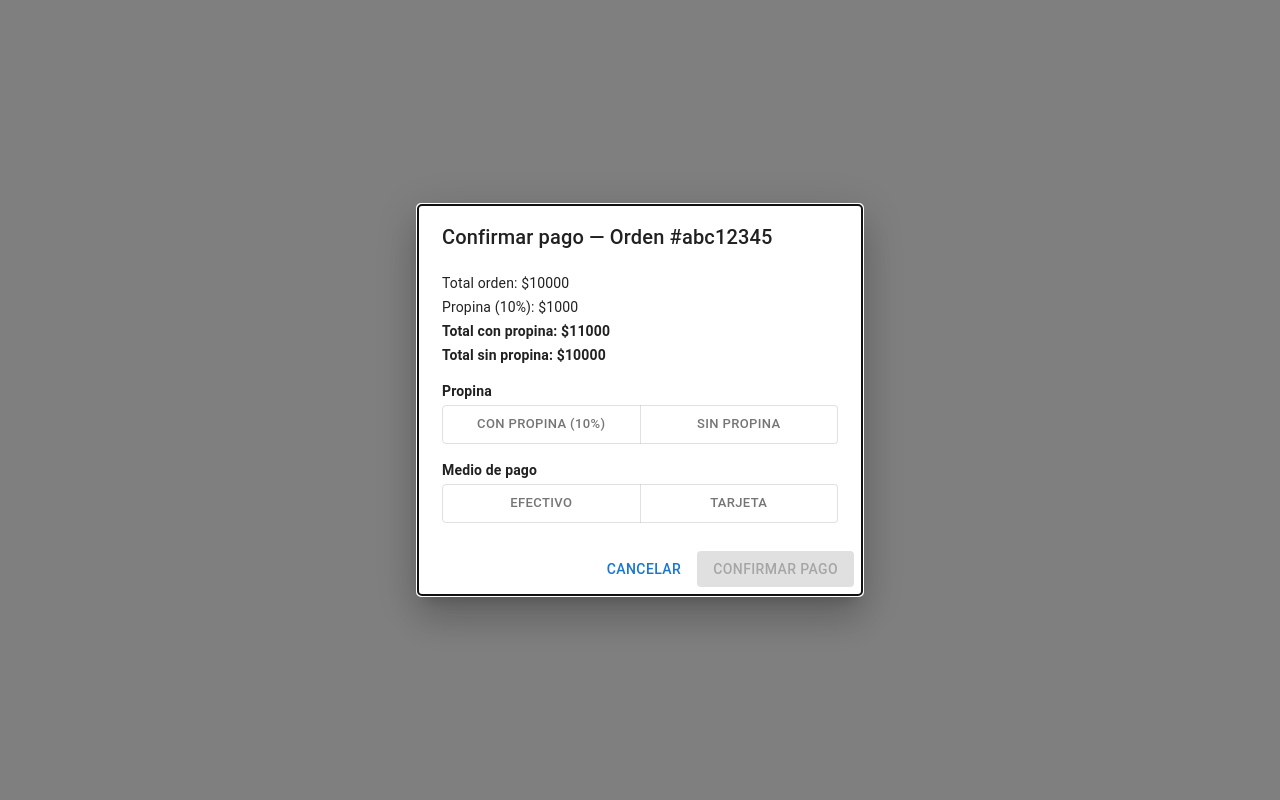
Test: MarkOrderPaidModal › deshabilita confirmar hasta elegir propina y medio de pago
This screenshot has width=1280, height=800.
Check: the button "Confirmar pago" is disabled, box [697,550,854,587]
Click the button "Con propina (10%)".
click(541, 424)  # box [442,405,640,444]
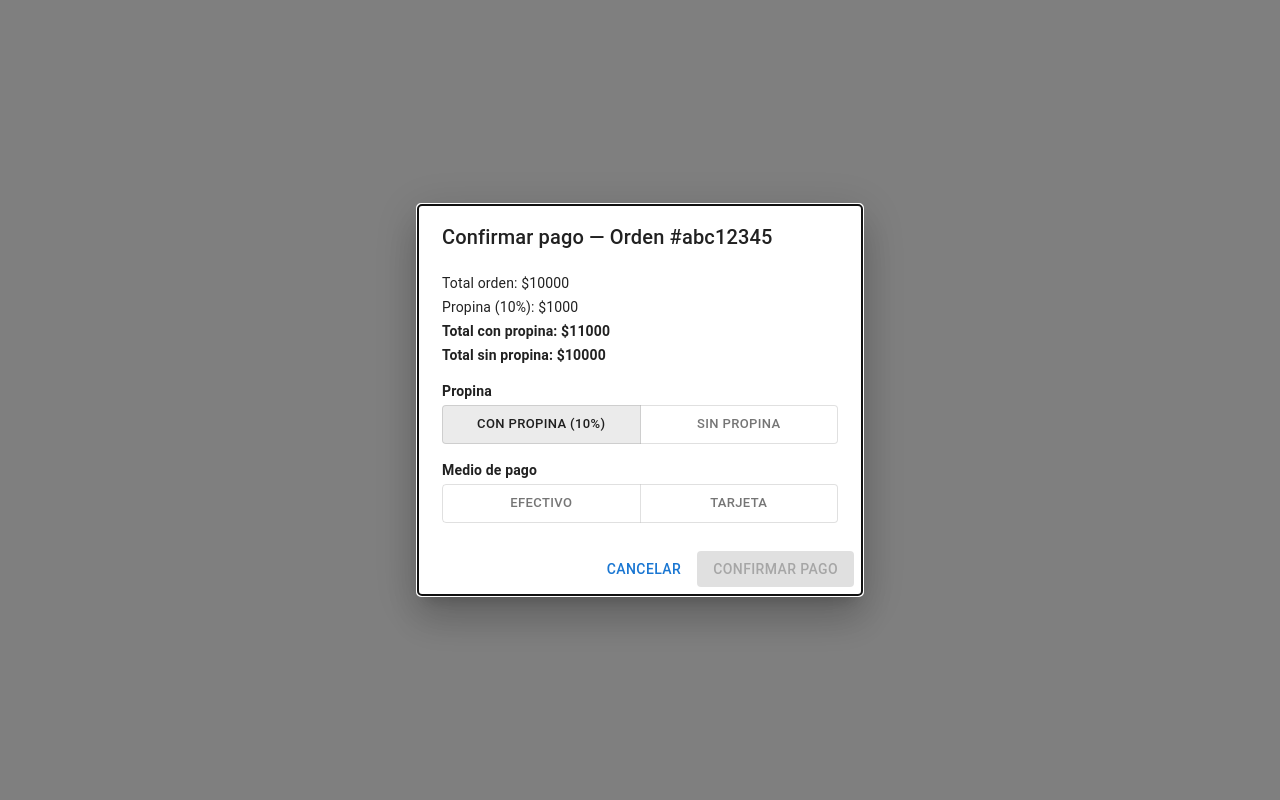
Check: the button "Confirmar pago" is disabled, box [697,550,854,587]
Click the button "Efectivo".
click(541, 503)  # box [442,484,640,523]
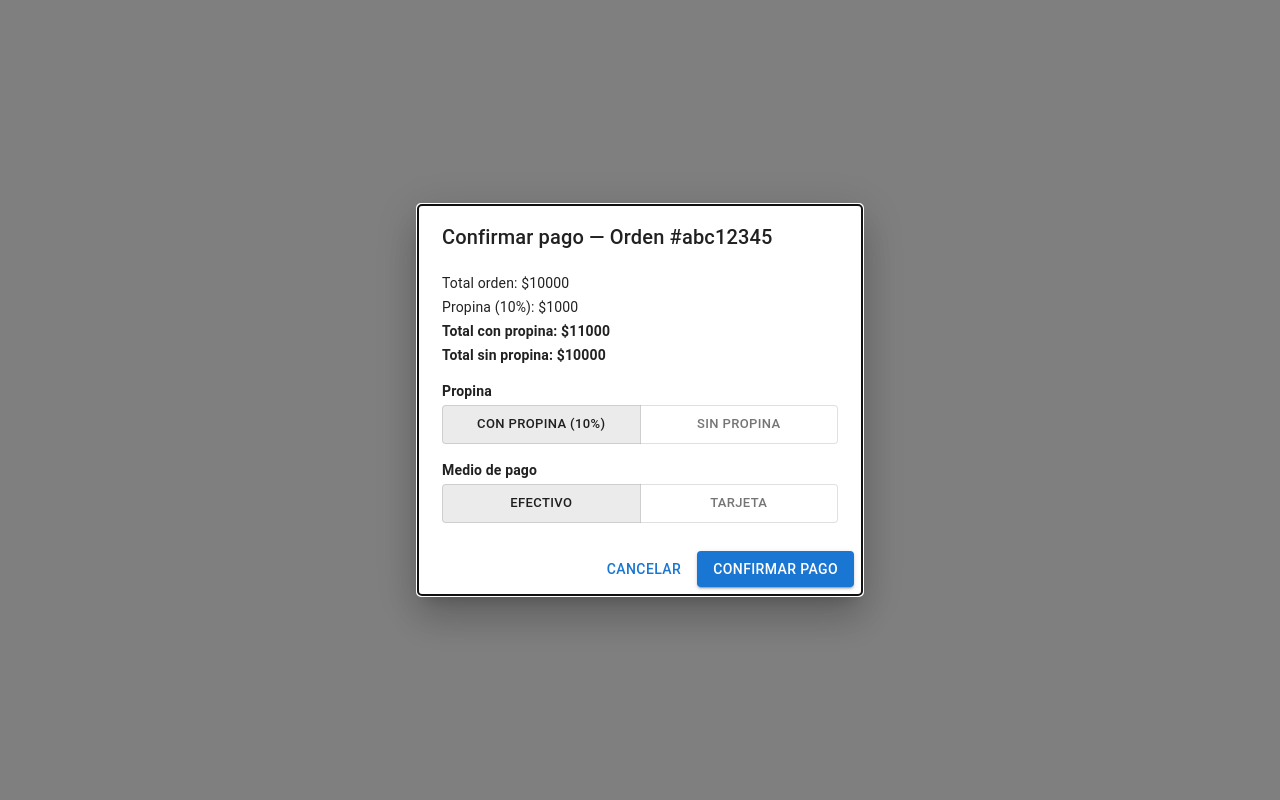
Check: the button "Confirmar pago" is enabled, box [697,550,854,587]
